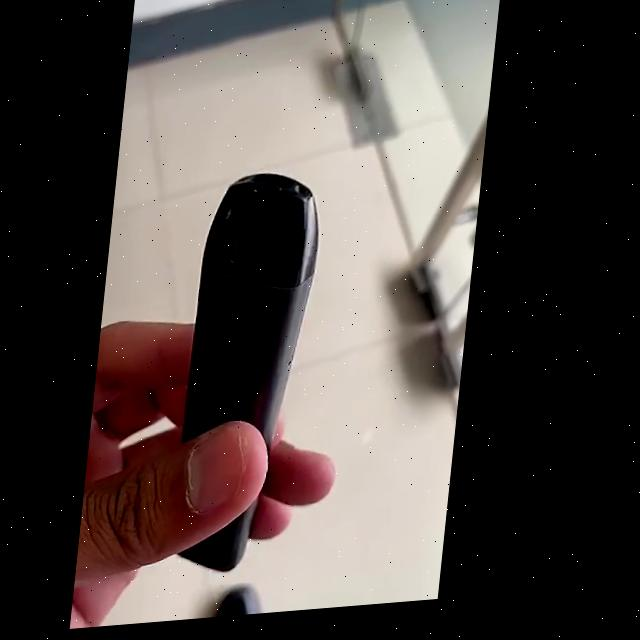vape: (179, 172, 335, 581)
